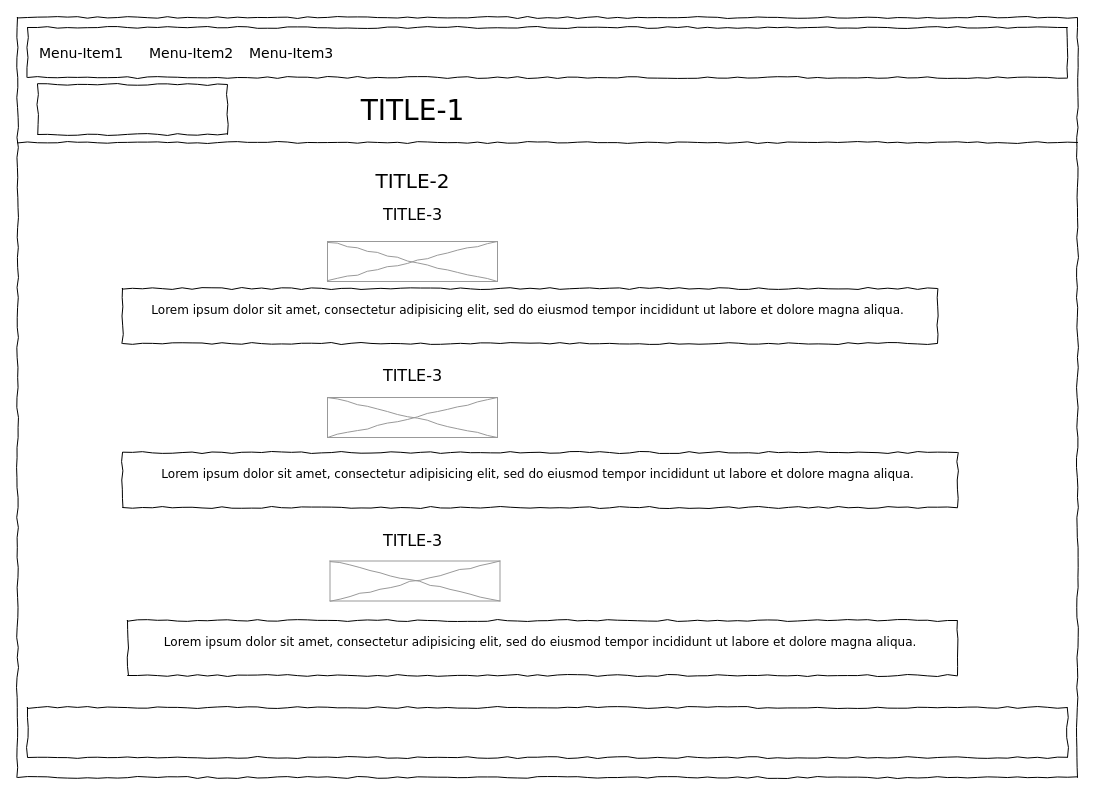
Image size: 1095x795. Some labels were removed from this diagram. The shapes that lost their labels are listed below. From the top down, each one's centre as x and y in pixels, then its label:
pixel 132 109: LOGO
pixel 547 732: Footer
